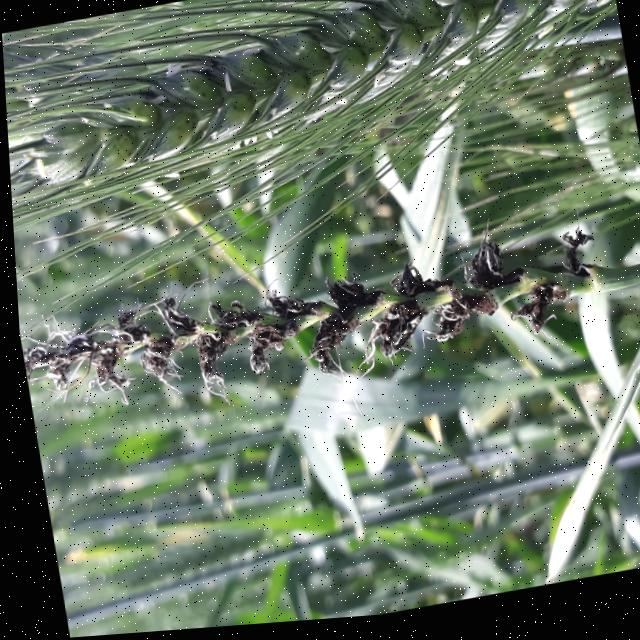loose_charred: (11, 204, 640, 447)
